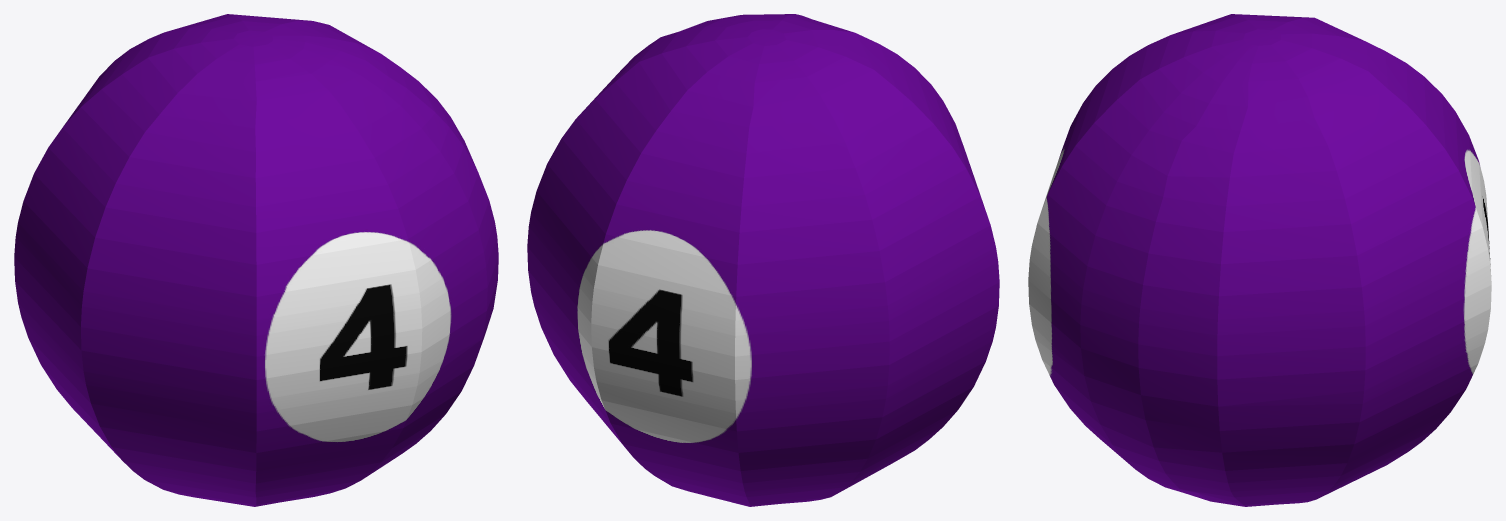
File: 4Ball.fbx
3 renders of one model, left to right at view 1: azimuth 30°, elevation 25°; view 2: azimuth 150°, elevation 25°; view 3: azimuth 270°, elevation 25°, orthographic.
Parts seen in each view (by area): view 1: Eight_Ball_eight_ball; view 2: Eight_Ball_eight_ball; view 3: Eight_Ball_eight_ball.
Boxes of the visible parts, x1,y1,x2,y2 form: Eight_Ball_eight_ball: (14, 14, 498, 506); Eight_Ball_eight_ball: (527, 14, 999, 506); Eight_Ball_eight_ball: (1028, 14, 1491, 506).
Size of the model in its own units: 0.3153 by 0.3281 by 0.3081.
